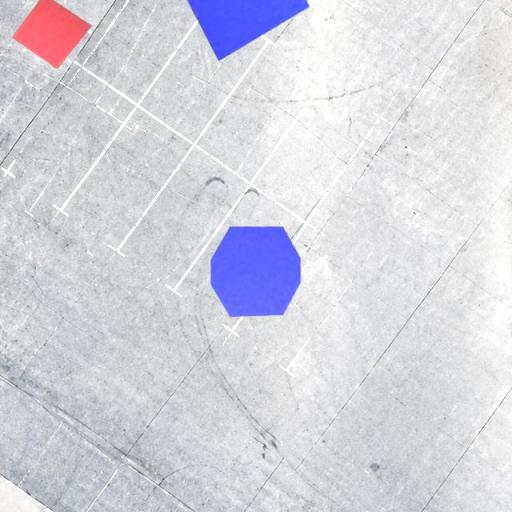BLUE_SQUARE: (168, 0, 310, 62)
RED_SQUARE: (11, 0, 92, 70)
